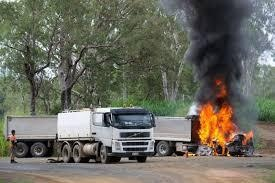fire: (191, 79, 254, 157)
